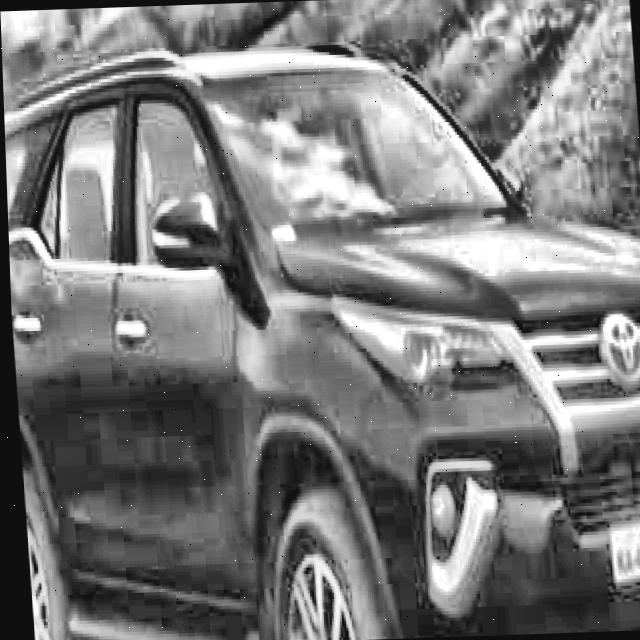light_vehicle: (1, 31, 640, 640)
